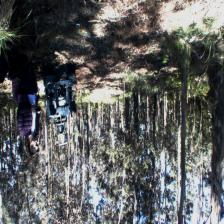trunktrack_idkeyframe: (207, 66, 224, 185), (180, 70, 187, 180)
